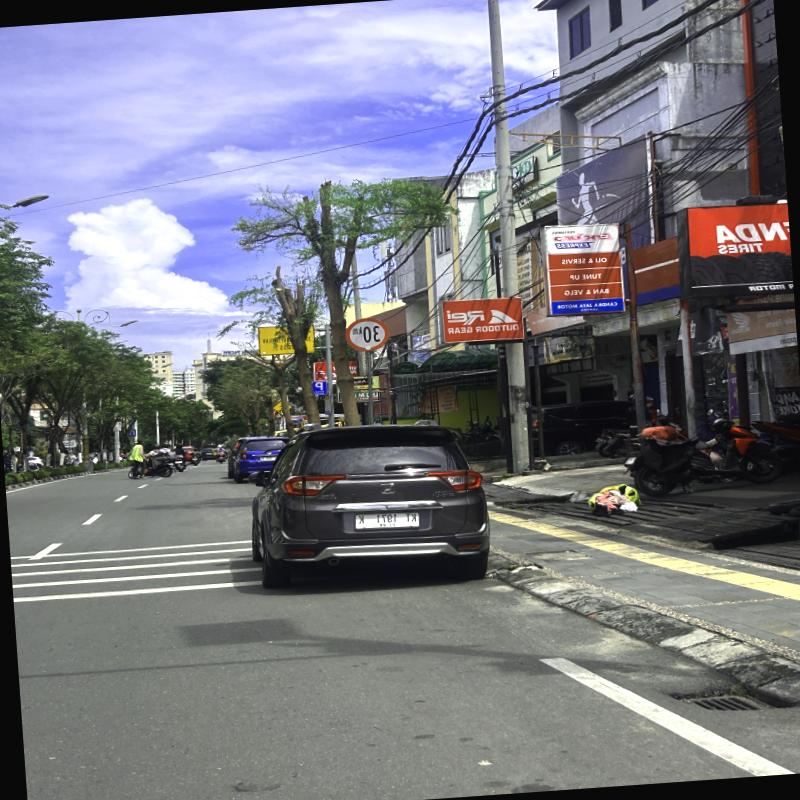license plate on a car: (355, 510, 420, 529), (260, 456, 277, 460)
